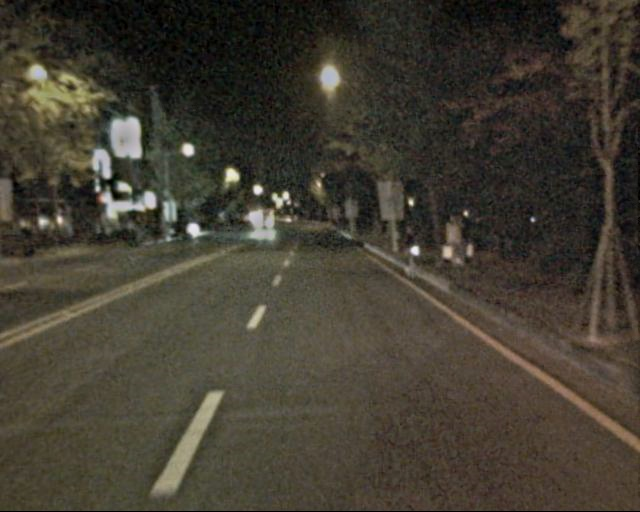person: (400, 227, 426, 278), (443, 214, 467, 267), (454, 215, 477, 267)
